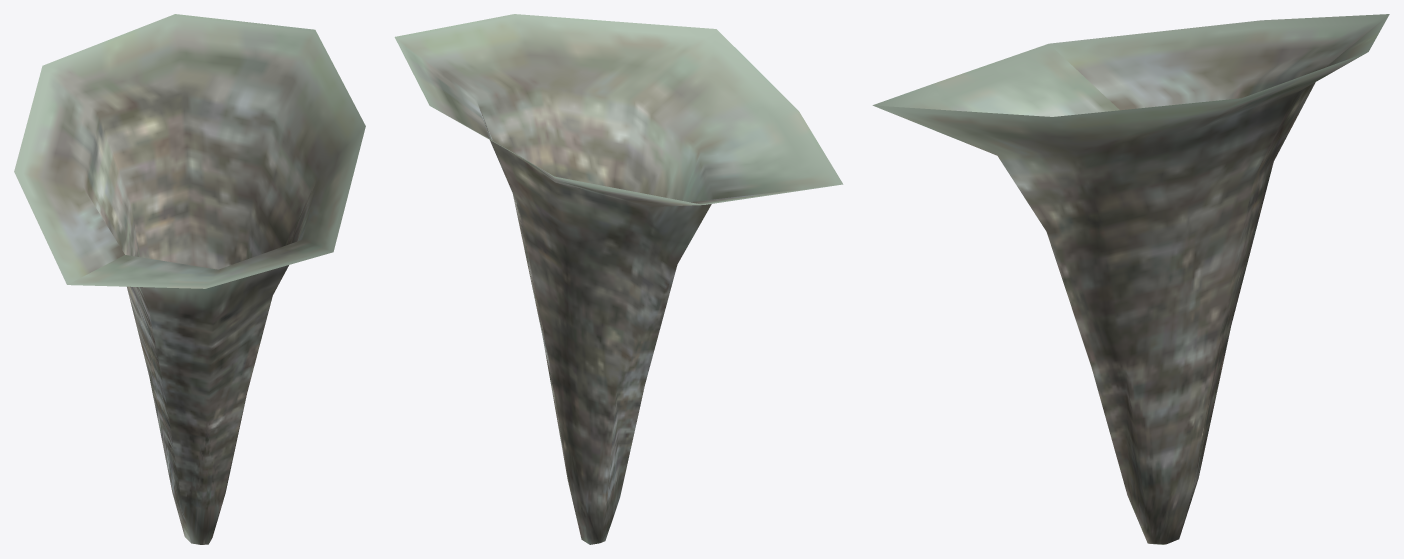
Rendered from TROLLHOLE02_PS-SECRETSTALAG29.fbx.
The picture shows the model from 3 angles, left to right: view 1: azimuth 30°, elevation 25°; view 2: azimuth 150°, elevation 25°; view 3: azimuth 270°, elevation 25°; orthographic projection. The views are drawn at different scales.
Visible parts, largest first — view 1: TROLLHOLE02_PS-SECRETSTALAG29; view 2: TROLLHOLE02_PS-SECRETSTALAG29; view 3: TROLLHOLE02_PS-SECRETSTALAG29.
Boxes of the visible parts, x1,y1,x2,y2 form: TROLLHOLE02_PS-SECRETSTALAG29: (14, 14, 365, 544); TROLLHOLE02_PS-SECRETSTALAG29: (394, 14, 843, 544); TROLLHOLE02_PS-SECRETSTALAG29: (872, 14, 1389, 544).
Bounding box in the file's own units: 17074 × 22361 × 19690.
1 material, 1 textured.
